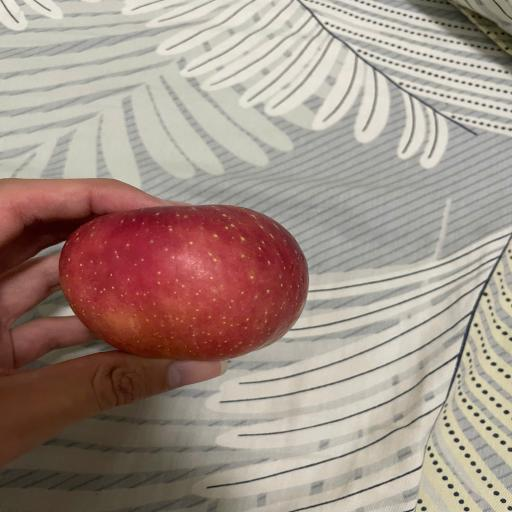apple: (59, 205, 308, 360)
